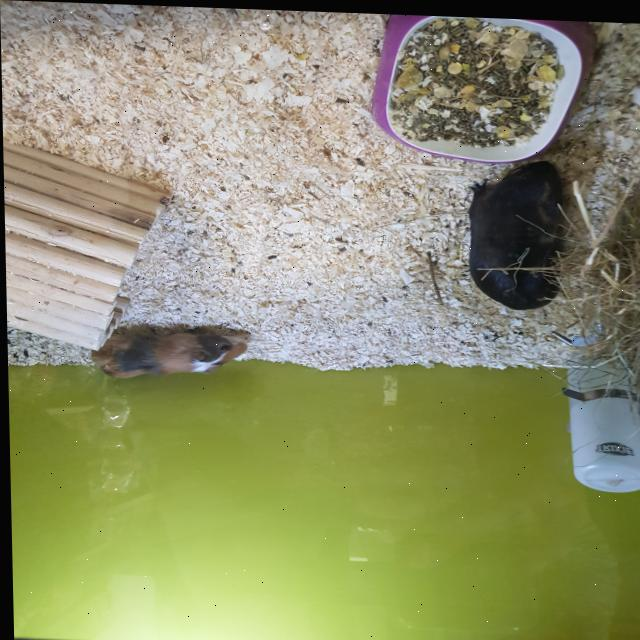guinea pig: (465, 152, 572, 310), (85, 320, 251, 383)
